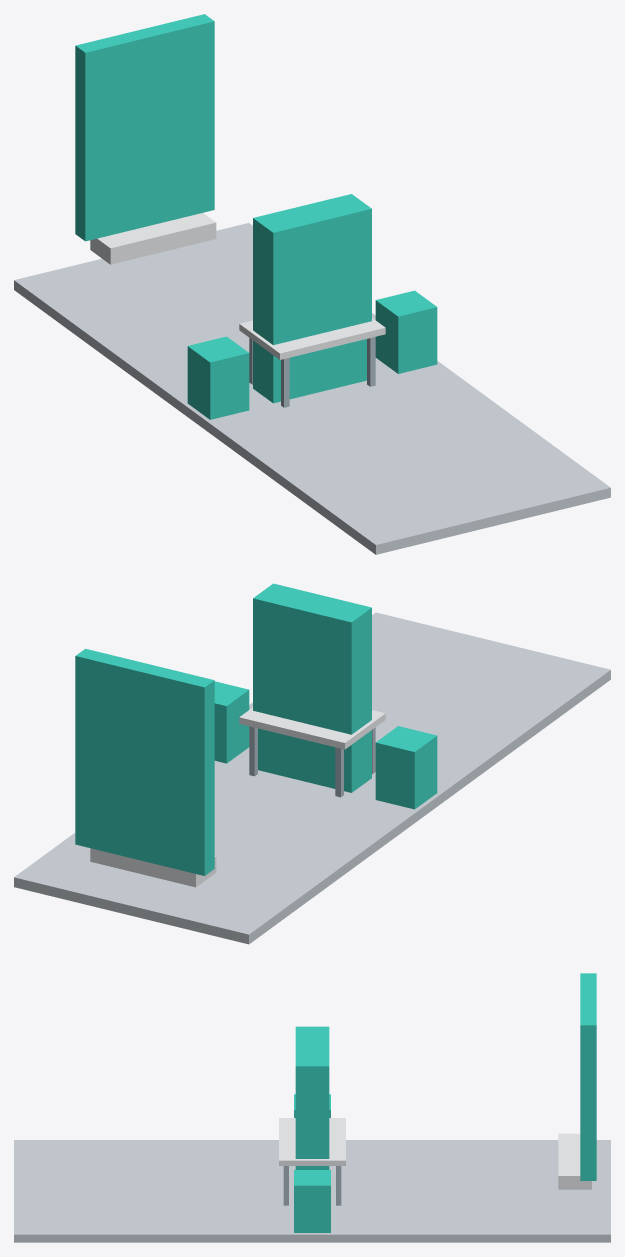
3 renders of one model, top to bottom at view 1: azimuth 30°, elevation 25°; view 2: azimuth 150°, elevation 25°; view 3: azimuth 270°, elevation 25°, orthographic. The views are drawn at different scales.
Parts seen in each view (by area): view 1: Exhibition Booth Concept; view 2: Exhibition Booth Concept; view 3: Exhibition Booth Concept.
Boxes of the visible parts, left/top/right/bottom form: Exhibition Booth Concept: left=14, top=14, right=610, bottom=554; Exhibition Booth Concept: left=14, top=583, right=610, bottom=944; Exhibition Booth Concept: left=14, top=973, right=610, bottom=1242.
Bounding box in the file's own units: 3 × 2.9 × 8.
